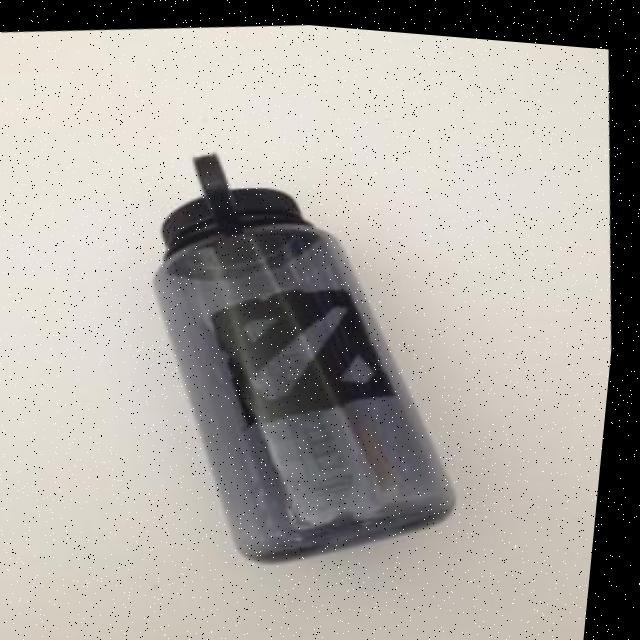plastic: (112, 110, 516, 592)
